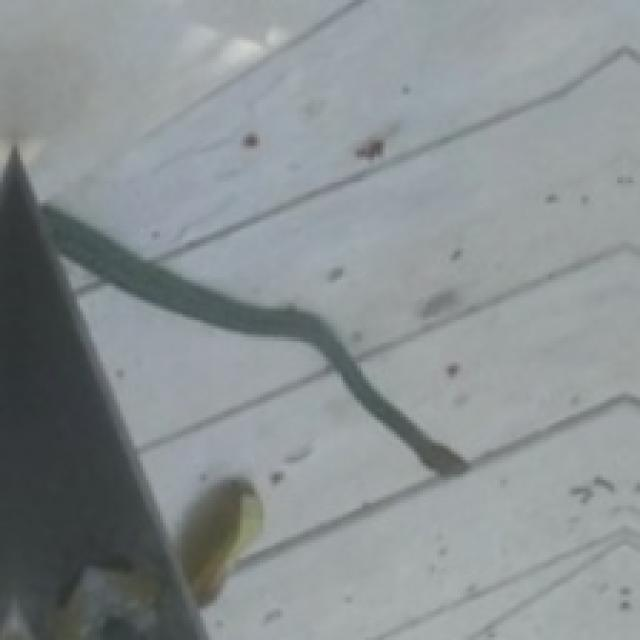paradise tree snake: (42, 207, 469, 476)
